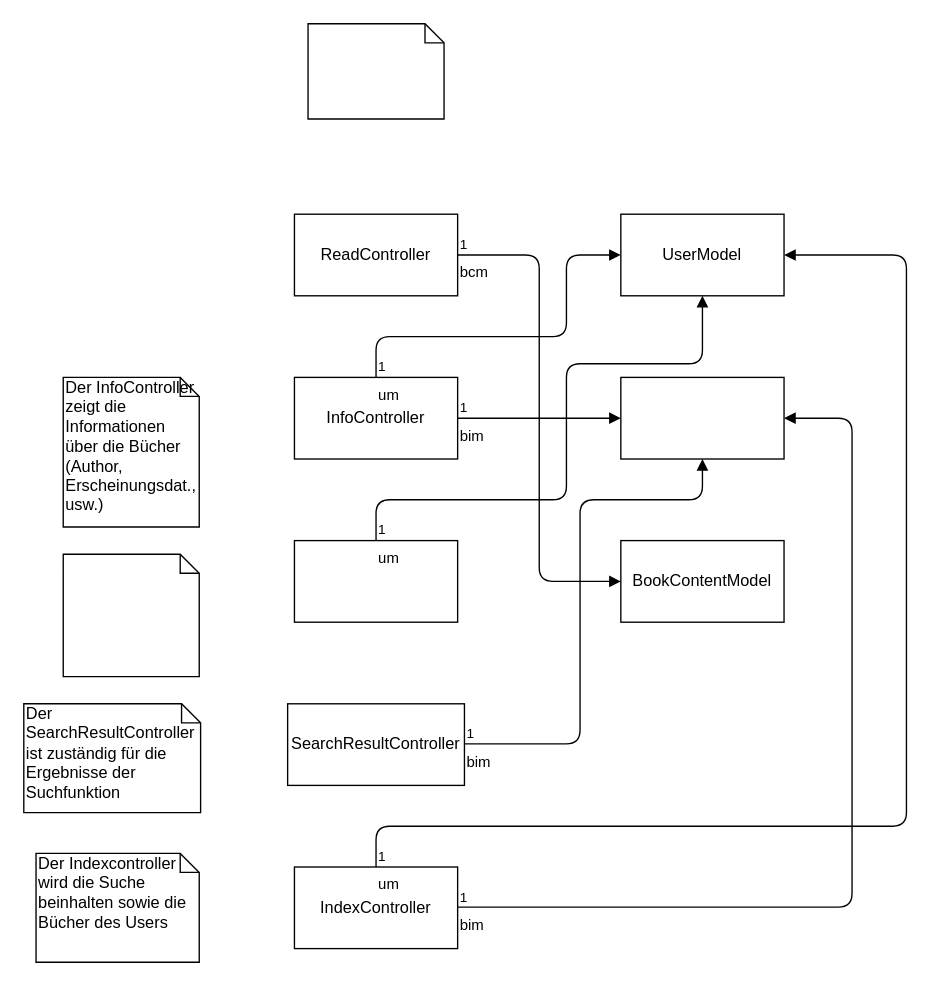
Image size: 941x986. Some labels were removed from this diagram. The shapes that lost their labels are listed below. From the top down, each one's centre as x and y in pixels, then its label:
At (x=375, y=70): "Der ReadController händelt die Inhalte der Bücher".
At (x=701, y=417): "BookInfoModel".
At (x=375, y=580): "LoginController".
At (x=130, y=615): "Der LoginController ist für die Registrierung und den Login zuständig".
